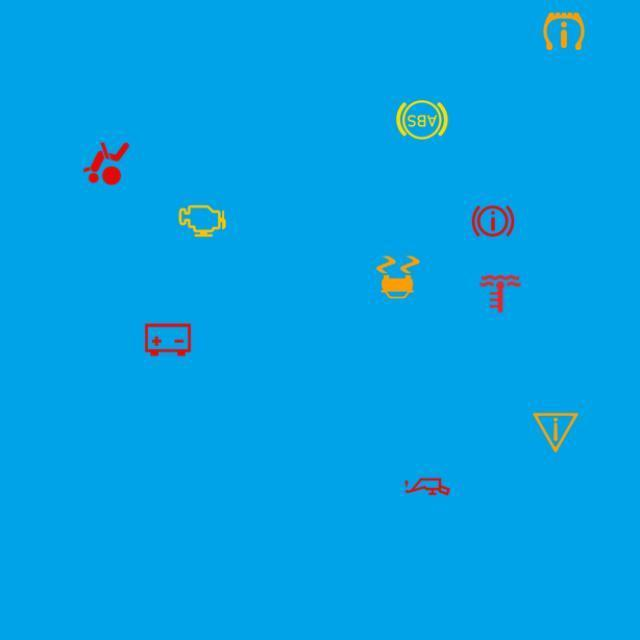High Engine Coolant Temperature: (472, 266, 529, 322)
